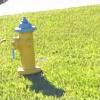a fire hydrant: (11, 18, 44, 76)
